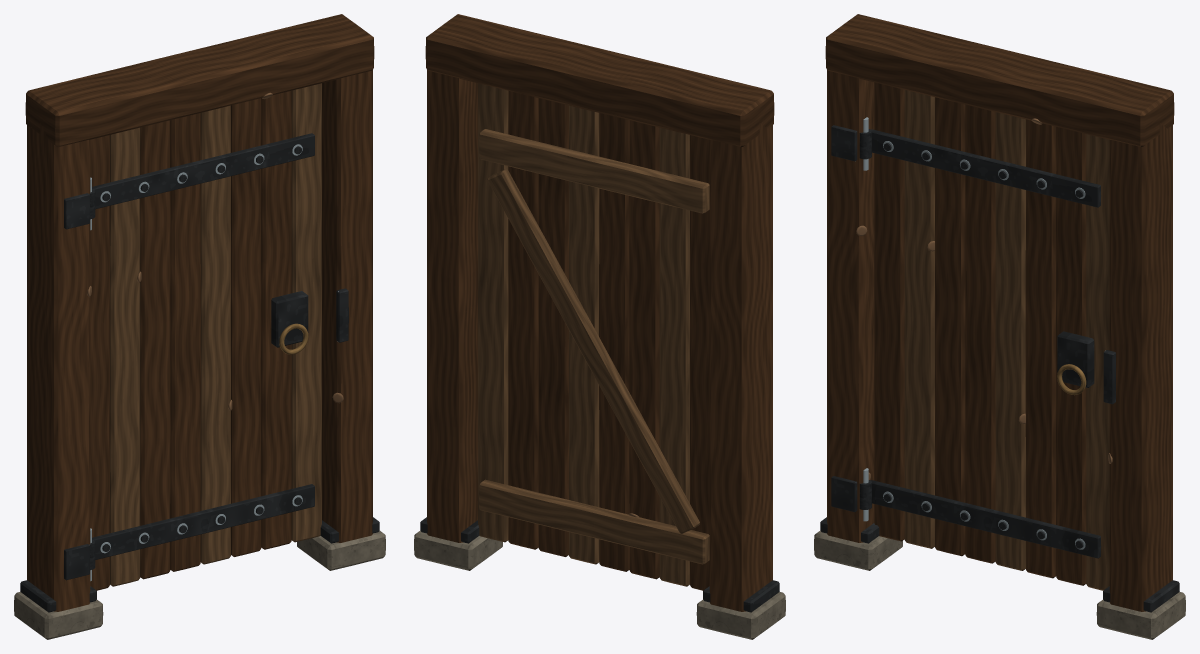
3 renders of one model, left to right at view 1: azimuth 30°, elevation 25°; view 2: azimuth 150°, elevation 25°; view 3: azimuth 330°, elevation 25°, orthographic.
Parts seen in each view (by area): view 1: quarter-sawn-timber (×2), exposed-end-grain, blackened-forged-iron (×2), dressed-fieldstone-edges, machined-bearing-steel; view 2: quarter-sawn-timber (×2), exposed-end-grain, dressed-fieldstone-edges, blackened-forged-iron; view 3: quarter-sawn-timber (×2), exposed-end-grain, blackened-forged-iron (×2), dressed-fieldstone-edges, machined-bearing-steel.
Boxes of the visible parts, x1,y1,x2,y2 form: quarter-sawn-timber (×2): [25, 14, 374, 611]; exposed-end-grain: [110, 83, 321, 586]; blackened-forged-iron (×2): [20, 133, 379, 612]; dressed-fieldstone-edges: [14, 530, 385, 639]; machined-bearing-steel: [100, 144, 302, 553]; quarter-sawn-timber (×2): [425, 14, 774, 611]; exposed-end-grain: [478, 83, 709, 586]; dressed-fieldstone-edges: [414, 530, 785, 639]; blackened-forged-iron: [420, 517, 779, 612]; quarter-sawn-timber (×2): [825, 14, 1174, 611]; exposed-end-grain: [904, 90, 1109, 590]; blackened-forged-iron (×2): [820, 125, 1179, 612]; dressed-fieldstone-edges: [814, 530, 1185, 639]; machined-bearing-steel: [883, 141, 1085, 549].
Size of the model in its own units: 1.69 by 2.48 by 0.3.
Materials: 8 (6 with a texture image).
